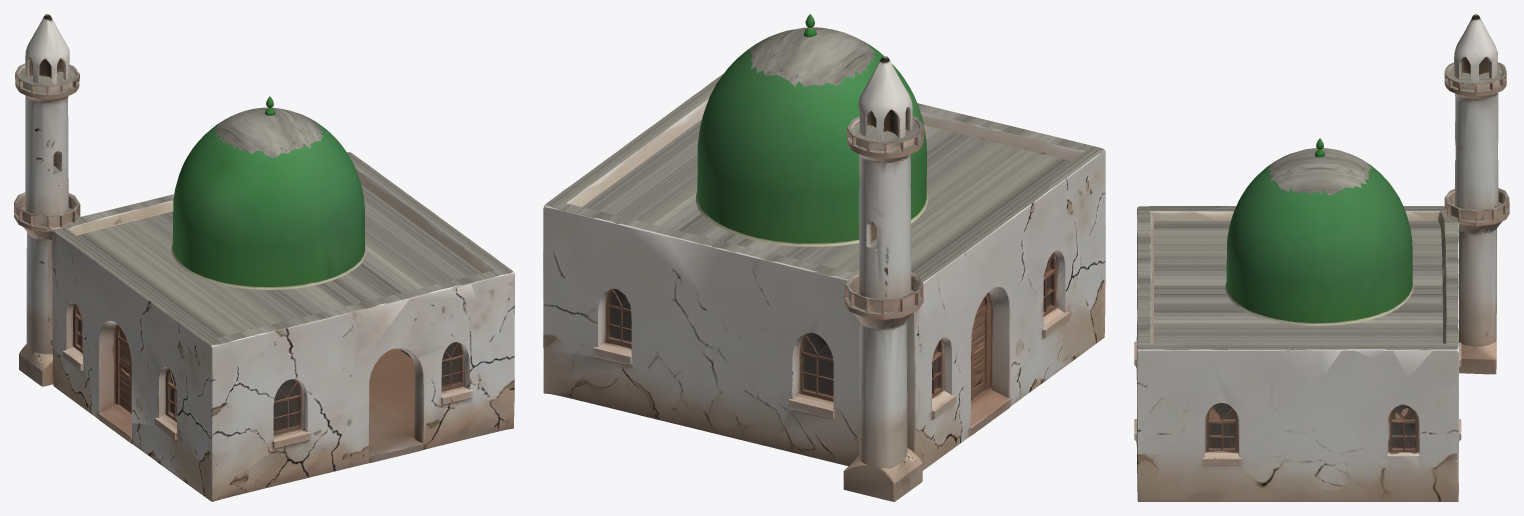
The model's file is mosque.glb.
The picture shows the model from 3 angles, left to right: view 1: azimuth 30°, elevation 25°; view 2: azimuth 150°, elevation 25°; view 3: azimuth 270°, elevation 25°; orthographic projection. The views are drawn at different scales.
Visible parts, largest first — view 1: mosque; view 2: mosque; view 3: mosque.
Part boxes in pixels (x1,y1,x2,y2): mosque: [14, 14, 514, 501]; mosque: [543, 14, 1105, 501]; mosque: [1134, 14, 1509, 501].
Bounding box in the file's own units: 13.59 × 14.34 × 14.
2 materials, 2 textured.
